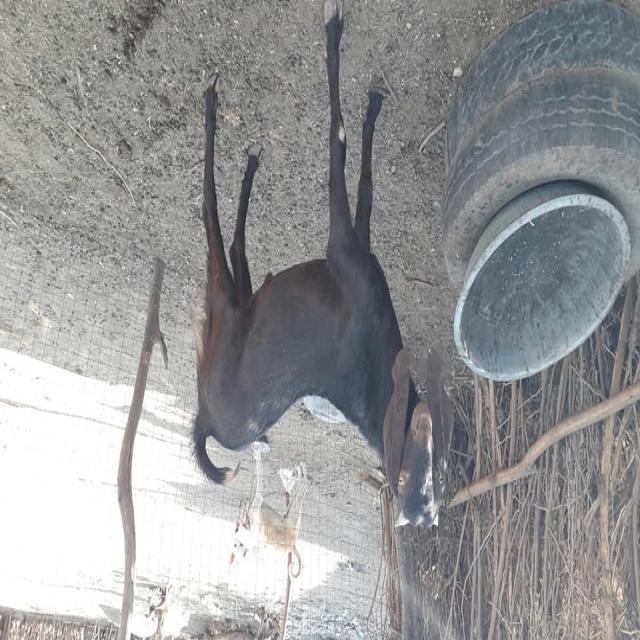Goat: (189, 2, 455, 531)
